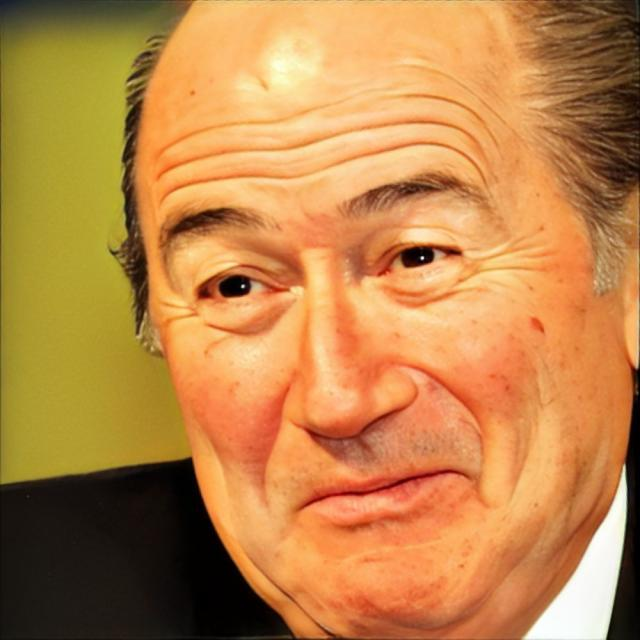disgust: (129, 0, 624, 640)
